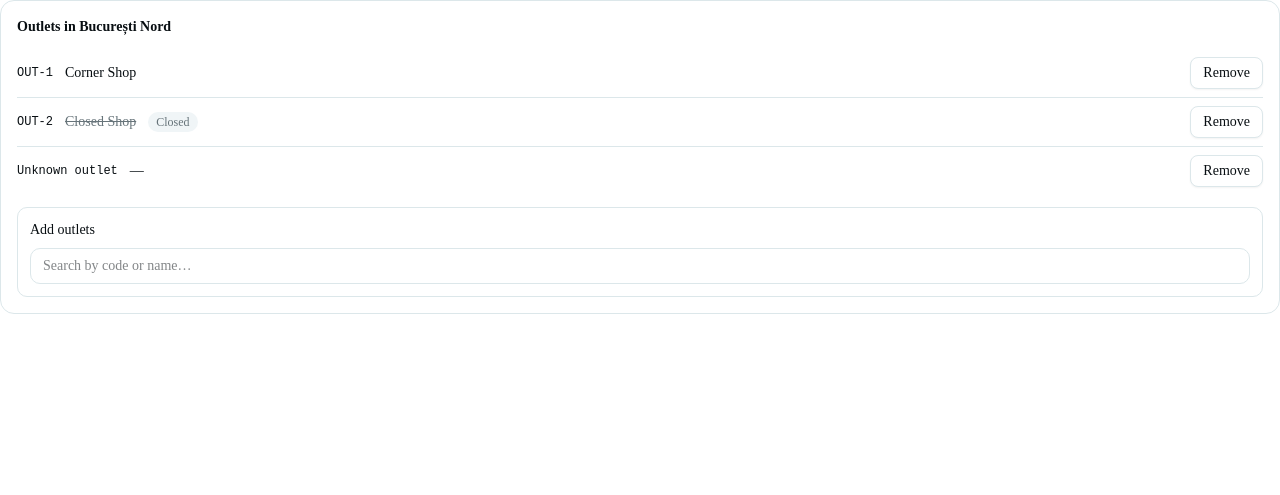
Test case: <TerritoryOutlets> › shows what the server said when an outlet is already taken
Type "OUT" into the field labelled "Add outlets" at (640, 266), box [30, 248, 1250, 284]
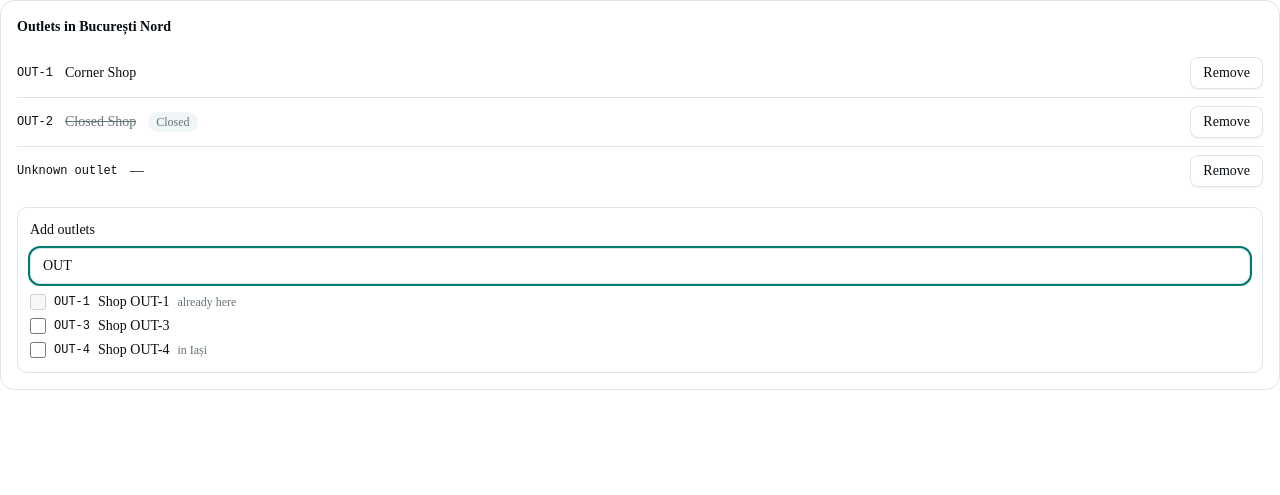
Click the checkbox labelled "OUT-4 Shop OUT-4 in Iași" at (38, 350), box [30, 342, 46, 358]
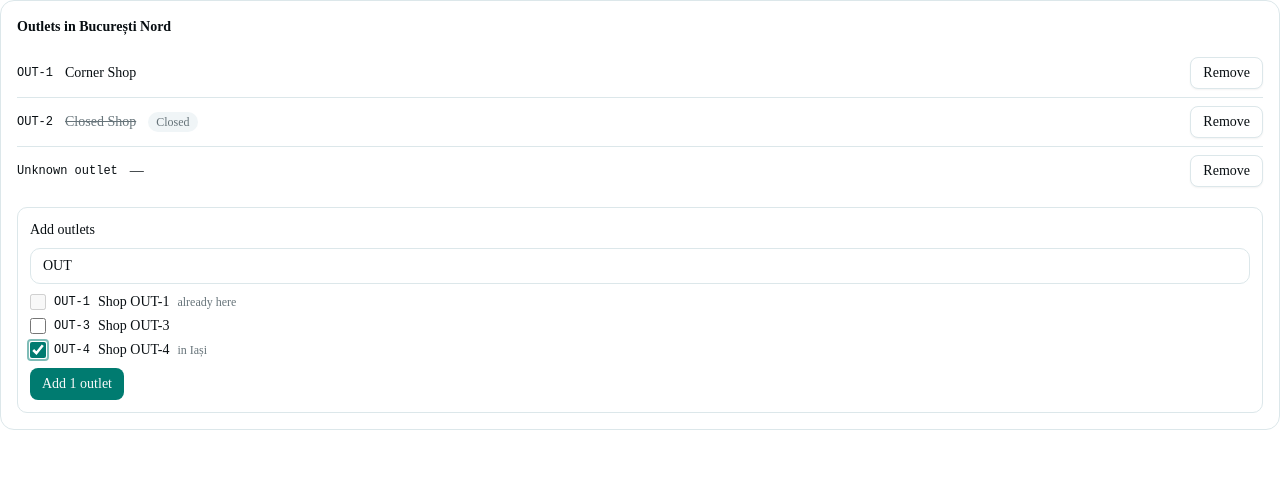
Click the button "Add 1 outlet" at (77, 384), box [30, 368, 124, 400]
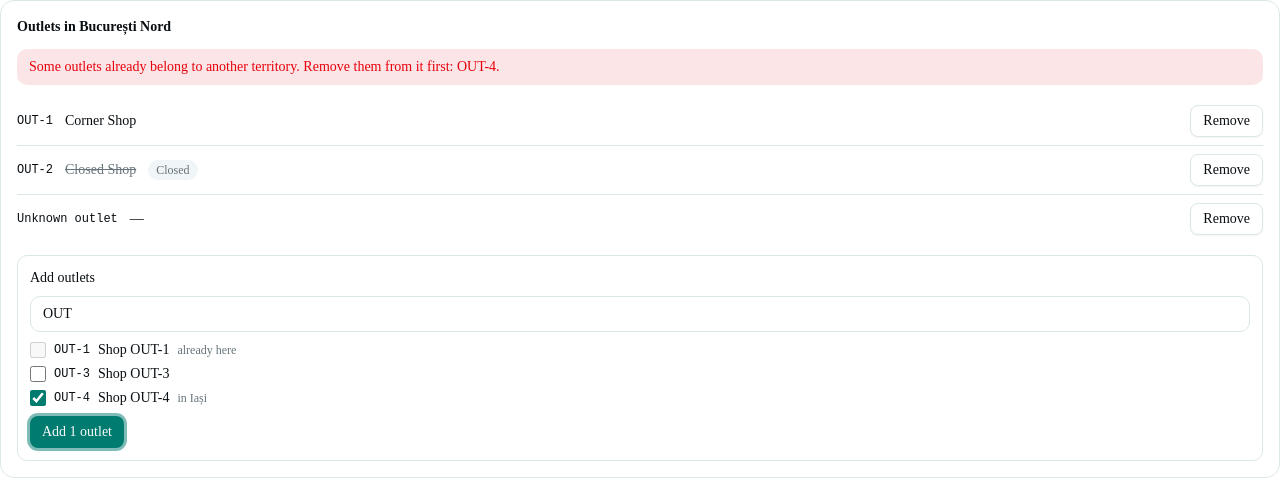
Check: the message shows "OUT-4", box [29, 59, 500, 74]
